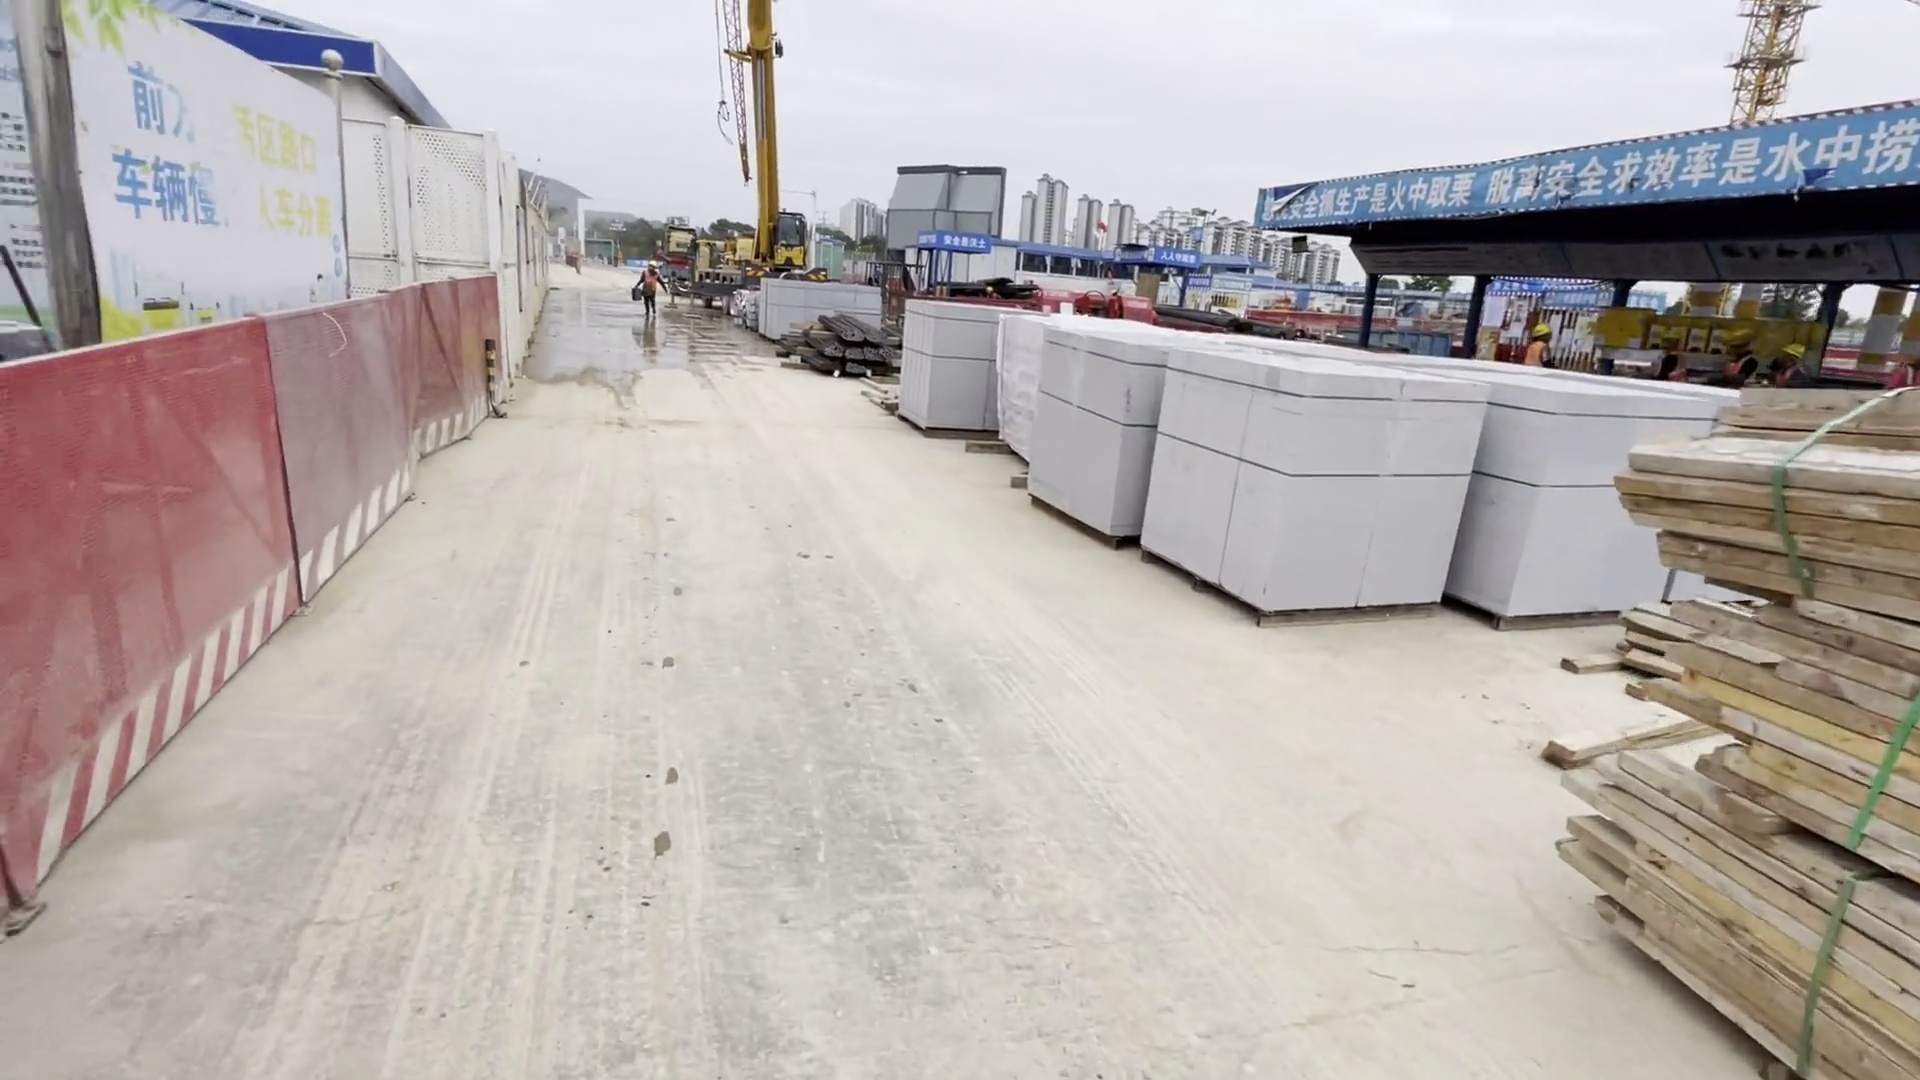brick: (1032, 329, 1778, 670), (895, 294, 991, 446), (758, 270, 882, 362)
fence: (23, 259, 508, 999)
helmet: (645, 258, 661, 268)
person: (632, 255, 667, 331)
slogan: (1245, 122, 1912, 238)
vest: (639, 267, 661, 299)
